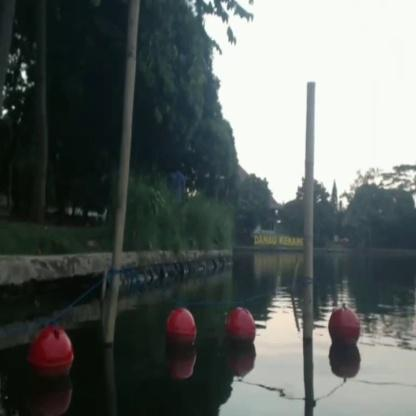red_buoy: (26, 323, 74, 389), (165, 306, 197, 360), (222, 307, 256, 357), (328, 306, 361, 353)
